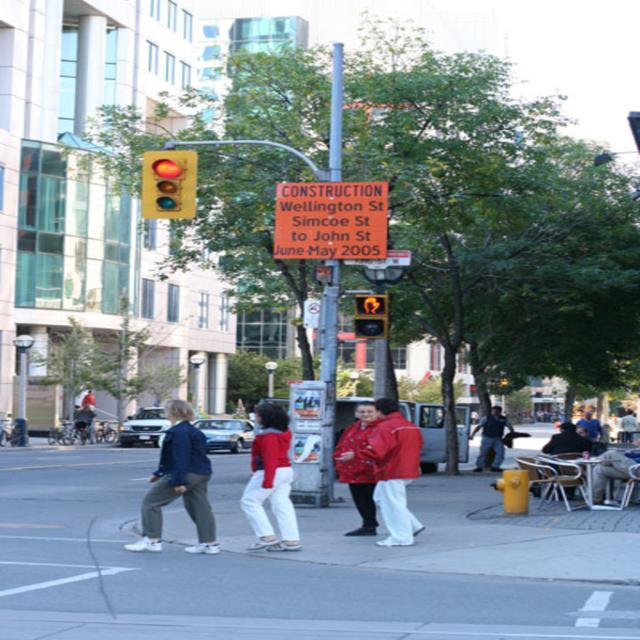traffic light: (141, 151, 197, 217), (354, 294, 387, 340)
